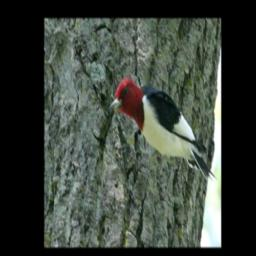Woodpecker: (104, 69, 220, 193)
